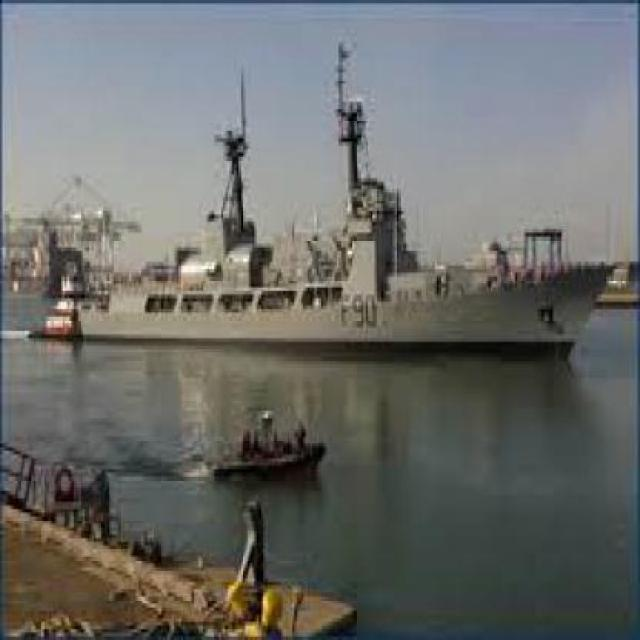warship2: (17, 89, 620, 375)
